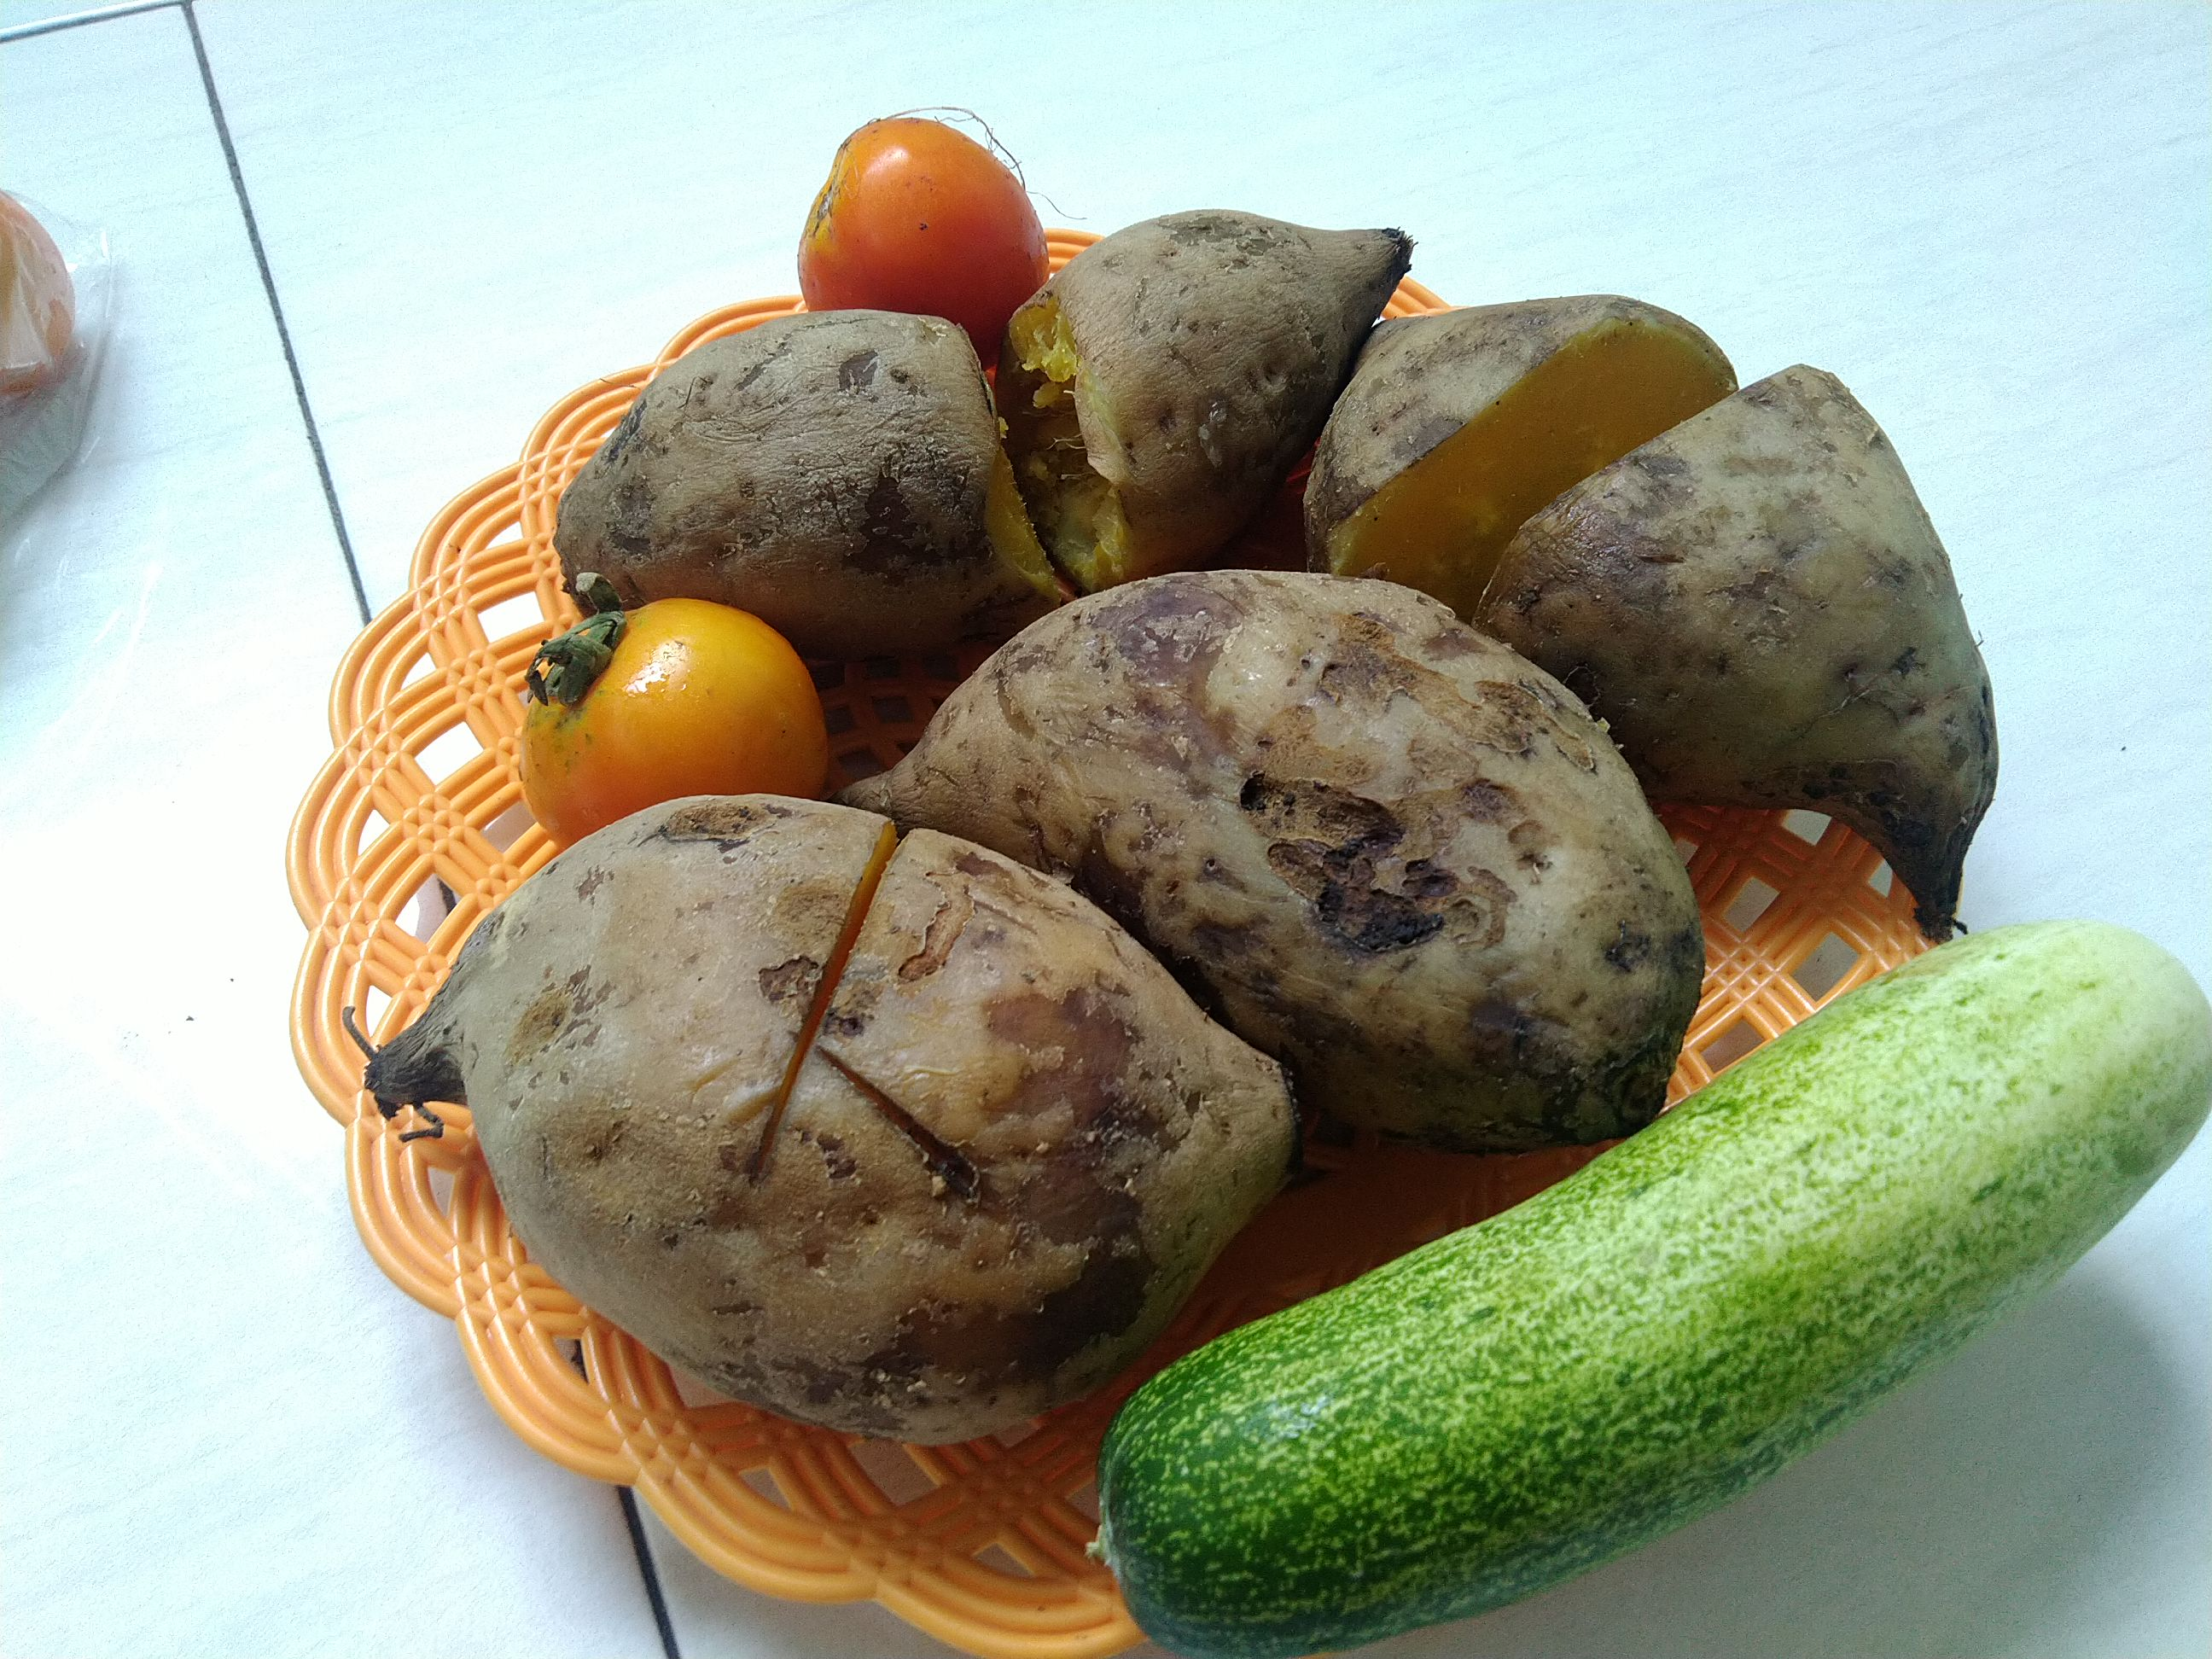ubi kuning: (347, 788, 1305, 1439), (846, 554, 1689, 1141), (1467, 368, 1998, 929), (542, 305, 1064, 613), (1001, 200, 1416, 580), (1278, 291, 1768, 594)
